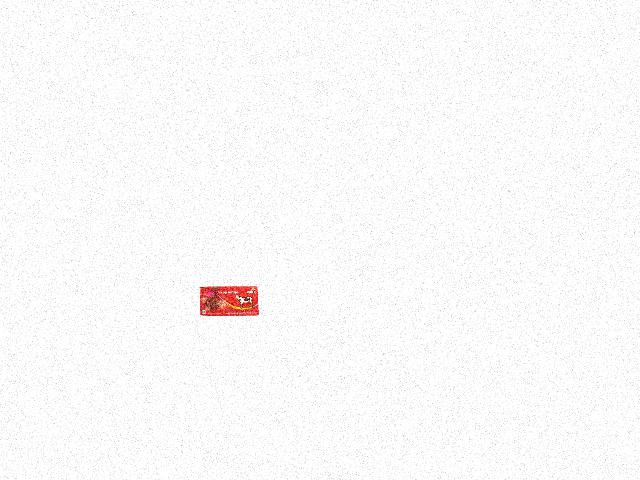chocolate: (199, 286, 261, 318)
